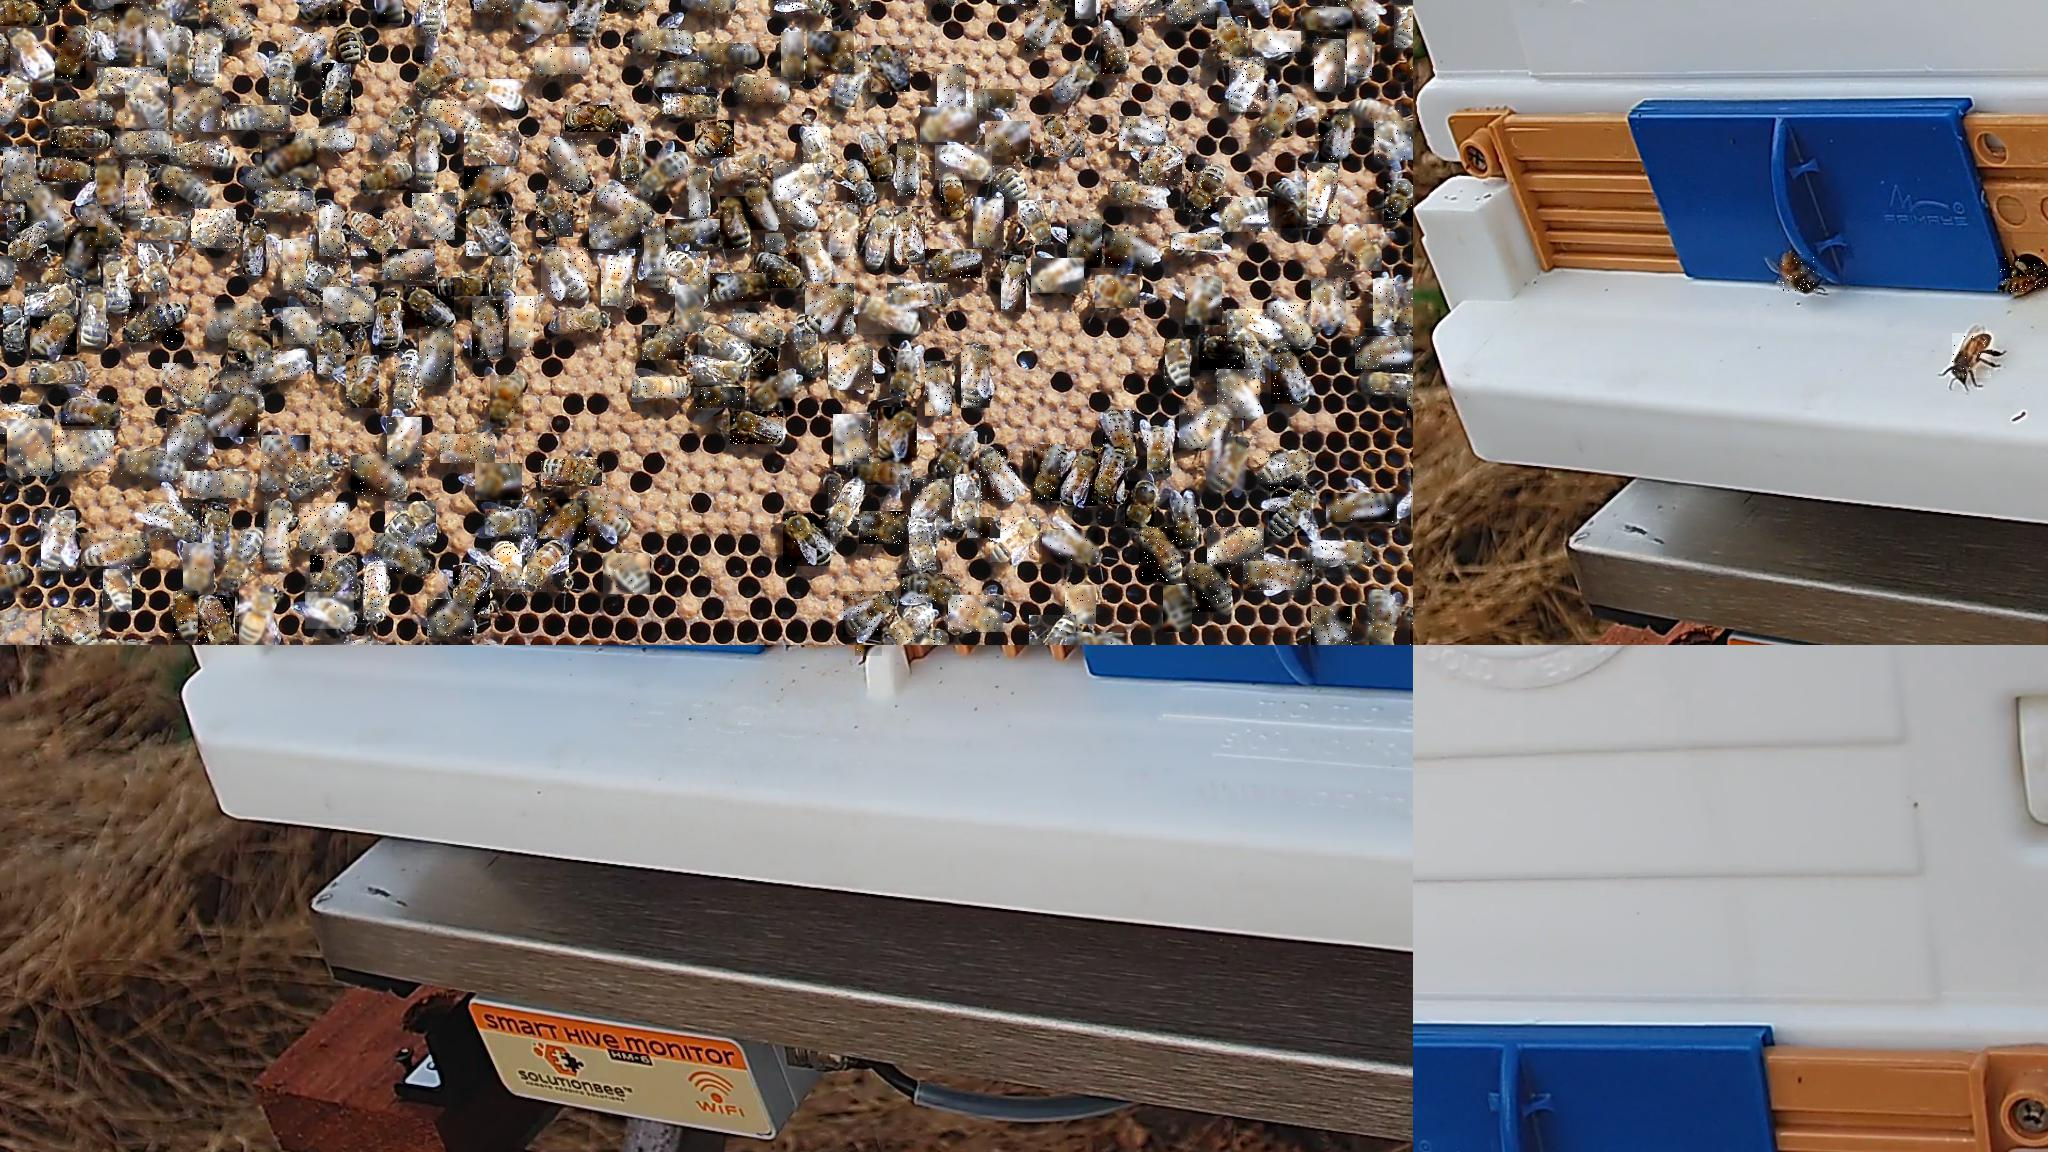bee: (537, 499, 589, 551), (262, 435, 311, 489), (783, 511, 831, 567), (7, 419, 53, 477), (805, 283, 855, 335), (522, 539, 570, 594), (122, 302, 186, 343), (55, 430, 115, 473), (542, 248, 589, 300), (10, 28, 53, 84), (466, 205, 512, 257), (843, 591, 895, 637), (221, 527, 262, 587), (698, 324, 753, 367), (373, 533, 429, 575), (858, 297, 920, 335), (316, 325, 363, 376), (1186, 563, 1232, 613), (173, 87, 224, 134), (577, 492, 629, 537), (205, 394, 259, 437), (82, 533, 151, 567), (1139, 527, 1182, 582), (404, 286, 454, 331), (1269, 485, 1312, 537), (125, 77, 169, 129), (41, 511, 77, 572), (158, 165, 211, 207), (1205, 437, 1248, 491), (352, 456, 407, 497), (30, 309, 77, 356), (162, 363, 210, 409), (1326, 492, 1398, 523), (300, 504, 349, 549), (990, 518, 1039, 563), (262, 139, 318, 179), (1217, 369, 1260, 419), (1179, 405, 1229, 449), (911, 480, 954, 532), (385, 501, 437, 543), (1061, 449, 1099, 506), (1207, 527, 1265, 565), (238, 587, 276, 644), (352, 212, 399, 257), (309, 556, 359, 599), (27, 184, 65, 241), (948, 595, 1004, 633), (419, 326, 454, 387), (878, 407, 919, 459), (920, 107, 978, 143), (935, 145, 993, 181), (828, 345, 873, 391), (412, 193, 456, 241), (807, 31, 855, 75), (42, 609, 101, 644), (114, 4, 151, 60), (464, 131, 520, 167), (422, 101, 482, 135), (1243, 561, 1312, 591), (146, 504, 200, 542), (1355, 336, 1412, 371), (1032, 444, 1068, 502), (1267, 302, 1312, 347), (288, 453, 335, 497), (1274, 181, 1317, 229), (603, 553, 651, 595), (639, 152, 686, 194), (596, 186, 651, 222), (207, 302, 262, 339), (1307, 163, 1339, 225), (961, 345, 992, 409), (120, 452, 187, 481), (1272, 349, 1307, 405), (1229, 56, 1265, 113), (774, 163, 826, 201), (833, 414, 871, 466), (979, 449, 1017, 501), (883, 606, 935, 644), (167, 415, 210, 461), (589, 214, 643, 250), (1031, 257, 1084, 294), (871, 45, 911, 93), (1042, 530, 1100, 564), (1186, 165, 1225, 214), (1025, 1, 1065, 51), (1184, 276, 1222, 326), (198, 594, 236, 644), (1103, 409, 1135, 468), (796, 232, 833, 284), (324, 287, 376, 324), (464, 165, 506, 210), (667, 250, 709, 295), (183, 471, 250, 499), (769, 186, 817, 225), (1343, 224, 1383, 271), (489, 376, 525, 429), (895, 205, 926, 266), (473, 300, 504, 360), (453, 565, 491, 615), (305, 592, 354, 630), (551, 139, 589, 188), (1093, 447, 1125, 505), (346, 354, 380, 409), (219, 371, 263, 414), (307, 262, 352, 302), (710, 273, 772, 302), (750, 371, 796, 411), (536, 190, 574, 238), (1106, 231, 1153, 269), (475, 463, 523, 501), (428, 599, 475, 637), (730, 411, 783, 444), (836, 53, 869, 107), (1220, 197, 1269, 233), (1311, 279, 1348, 328), (387, 416, 423, 466), (1044, 115, 1086, 158), (1054, 60, 1097, 101), (55, 25, 87, 80), (191, 210, 236, 249), (1952, 333, 1992, 378), (169, 141, 235, 167), (937, 433, 975, 480), (65, 226, 98, 279), (25, 283, 77, 316), (754, 253, 802, 290), (1120, 115, 1167, 152), (793, 314, 821, 376), (542, 459, 603, 487), (97, 68, 159, 96), (1068, 219, 1103, 269), (383, 249, 436, 281), (513, 3, 567, 35), (1314, 39, 1346, 93), (3, 148, 35, 201), (82, 205, 121, 249), (208, 0, 252, 39), (1139, 146, 1183, 186), (1259, 452, 1310, 485), (828, 480, 862, 530), (264, 501, 290, 568), (1310, 606, 1355, 644), (371, 105, 409, 151), (926, 249, 983, 279), (902, 574, 959, 603), (60, 399, 121, 428), (852, 459, 913, 487), (1198, 335, 1245, 371), (985, 121, 1031, 158), (601, 255, 633, 307), (183, 543, 215, 595), (744, 181, 778, 231), (8, 221, 48, 263), (440, 435, 497, 464), (859, 511, 909, 544), (467, 79, 523, 108), (1319, 110, 1350, 163), (641, 325, 686, 361), (226, 105, 291, 131), (1094, 274, 1141, 309), (281, 32, 328, 68), (203, 504, 231, 561), (1303, 542, 1370, 565), (491, 542, 525, 589), (973, 197, 1004, 249), (828, 205, 859, 257), (1374, 120, 1412, 162), (1262, 93, 1298, 136), (138, 243, 170, 293), (1231, 329, 1263, 378), (565, 105, 622, 134), (103, 255, 129, 314), (255, 352, 308, 381), (322, 63, 352, 117), (1018, 200, 1052, 246), (228, 331, 274, 364), (1779, 255, 1819, 294), (695, 120, 736, 158), (720, 196, 748, 250), (926, 361, 954, 416), (535, 46, 589, 75), (416, 56, 459, 93), (392, 349, 419, 407), (82, 287, 107, 347), (1110, 181, 1166, 208), (909, 518, 937, 571), (196, 30, 224, 83), (654, 62, 710, 89), (1349, 101, 1402, 129), (97, 158, 122, 217), (1001, 255, 1027, 314), (37, 158, 96, 183), (686, 356, 748, 380), (710, 155, 765, 181), (730, 312, 782, 340), (485, 509, 537, 537), (0, 75, 30, 124), (283, 307, 321, 345), (1227, 309, 1273, 340), (954, 474, 980, 527), (665, 219, 722, 245), (865, 211, 890, 267), (734, 77, 791, 103), (675, 286, 705, 333), (1125, 481, 1155, 529), (363, 561, 387, 620), (1163, 585, 1193, 633), (1030, 615, 1077, 644), (937, 65, 966, 113), (115, 131, 174, 155), (1335, 0, 1378, 32), (1217, 17, 1249, 60), (888, 283, 949, 305), (1369, 589, 1394, 644), (91, 13, 120, 62), (864, 134, 892, 183), (416, 122, 437, 187), (103, 570, 134, 613), (243, 219, 267, 276), (30, 361, 86, 385), (148, 10, 172, 66), (803, 127, 831, 174), (49, 101, 113, 122), (549, 311, 608, 333), (509, 295, 535, 347), (361, 165, 411, 191), (644, 226, 665, 288), (992, 165, 1025, 203), (1362, 371, 1412, 397), (173, 591, 198, 641), (1166, 0, 1217, 25), (1165, 339, 1191, 387), (699, 44, 760, 65), (1065, 585, 1097, 625), (632, 377, 688, 399), (378, 293, 399, 352), (634, 30, 693, 51), (1101, 25, 1127, 75), (319, 205, 343, 257), (283, 239, 307, 291), (1175, 498, 1198, 550), (1301, 7, 1353, 31), (890, 350, 917, 397), (0, 0, 46, 27), (663, 93, 717, 115), (847, 159, 875, 203), (1384, 180, 1412, 224), (0, 405, 39, 436), (51, 129, 113, 149), (1146, 428, 1172, 475), (1348, 30, 1373, 77), (269, 51, 293, 101), (577, 0, 606, 41), (492, 241, 513, 297), (781, 32, 805, 82), (693, 387, 745, 409), (298, 0, 350, 23), (125, 160, 145, 219), (259, 191, 314, 212), (1252, 31, 1303, 53), (297, 129, 354, 149), (897, 139, 917, 197), (141, 217, 187, 241), (167, 28, 188, 80), (1373, 279, 1395, 326), (3, 301, 25, 349), (421, 0, 449, 38), (248, 167, 297, 188), (689, 167, 709, 219), (437, 277, 489, 297), (941, 174, 965, 217), (620, 134, 641, 181), (0, 565, 30, 599), (156, 0, 201, 21), (336, 25, 360, 65), (774, 0, 831, 15), (1117, 0, 1165, 18), (973, 89, 1017, 108), (1172, 233, 1222, 250), (41, 269, 83, 288), (751, 347, 779, 377), (1394, 6, 1412, 51), (966, 518, 1001, 539), (1066, 633, 1129, 644), (897, 630, 948, 644), (376, 0, 404, 25), (474, 0, 527, 13), (1400, 277, 1412, 329), (0, 203, 31, 224), (679, 0, 736, 11), (1075, 0, 1099, 21), (0, 256, 15, 287), (37, 0, 73, 13), (623, 0, 657, 13), (93, 0, 151, 7), (765, 233, 785, 253), (850, 0, 873, 13)
pollenbee: (1997, 257, 2047, 294), (855, 646, 883, 658)
